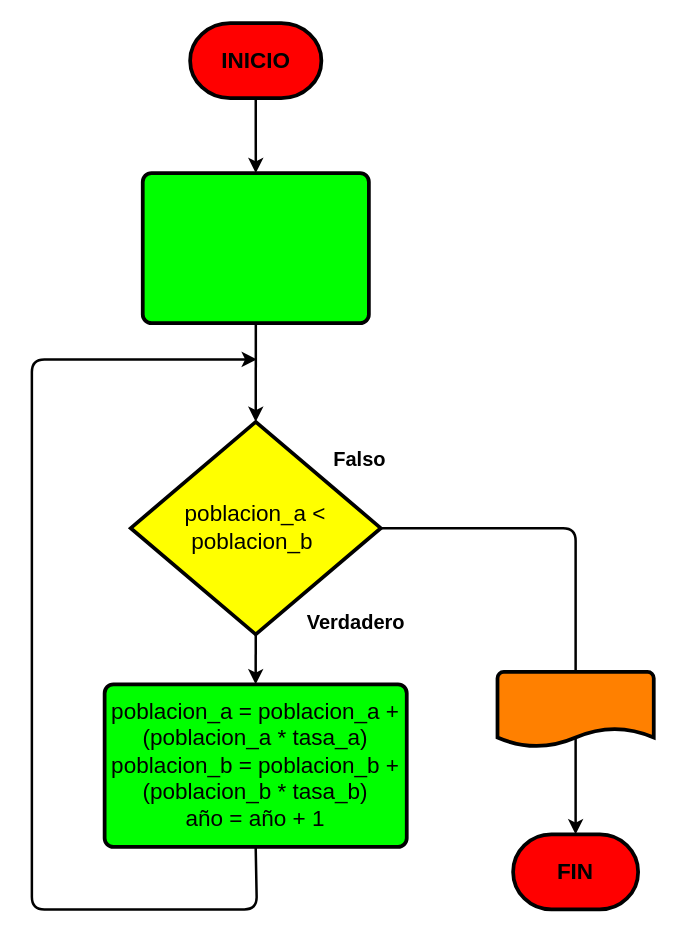
The diagram is 676 pixels wide and 943 high, and some of its shapes have lost their labels. The shapes that lost their labels are listed below. From the top down, each one's centre as x and y in pixels, then its label:
the point at 255,247: año = 1980 poblacion_a = 3.5 tasa_a = 7% poblacion_b = 5 tasa_b = 5%
the point at 575,708: año
